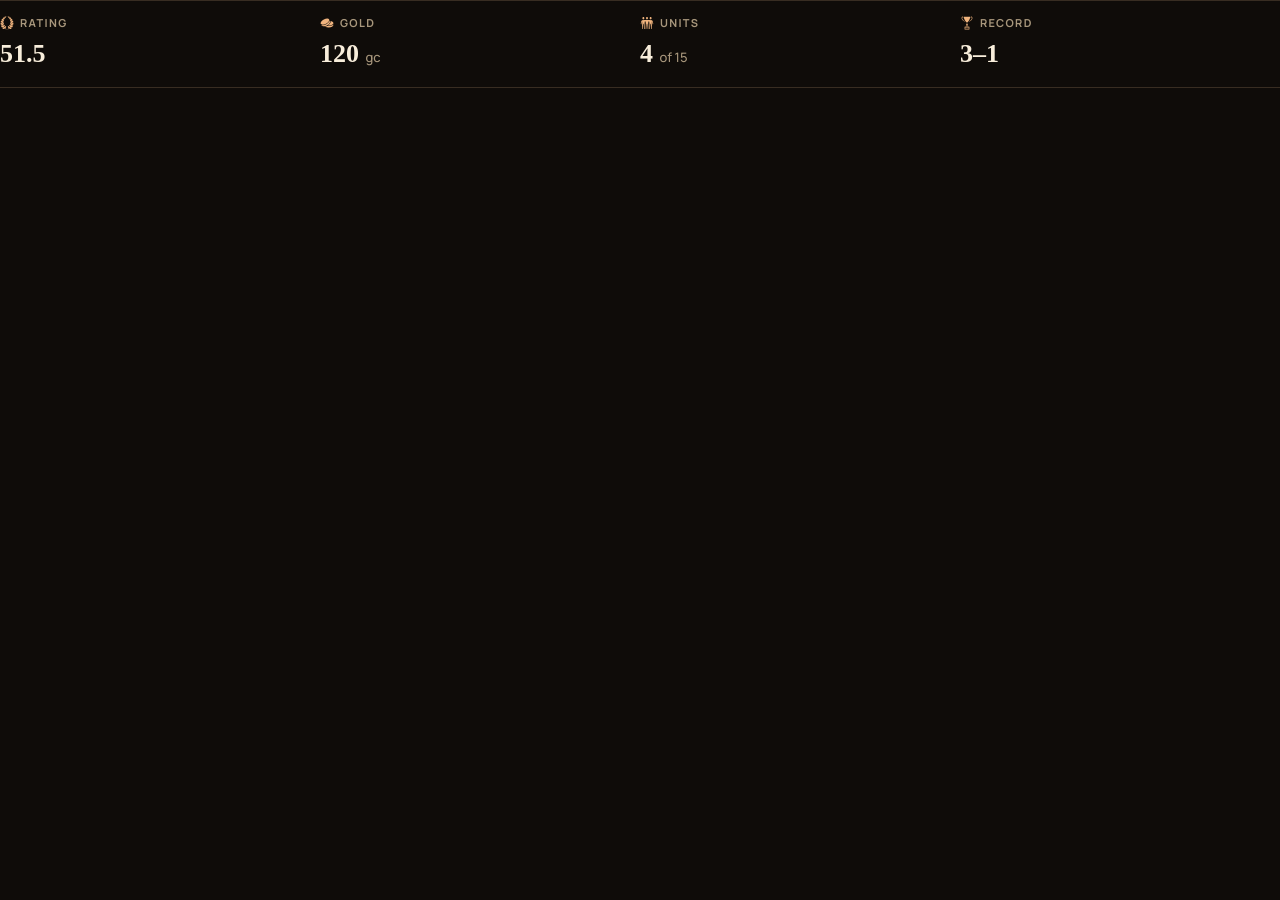
Test case: The header's windows › opens the rating unit by unit, adding up to its total
Click the button named "Rating 51.5". click: [23, 53]
box: [0, 34, 308, 72]
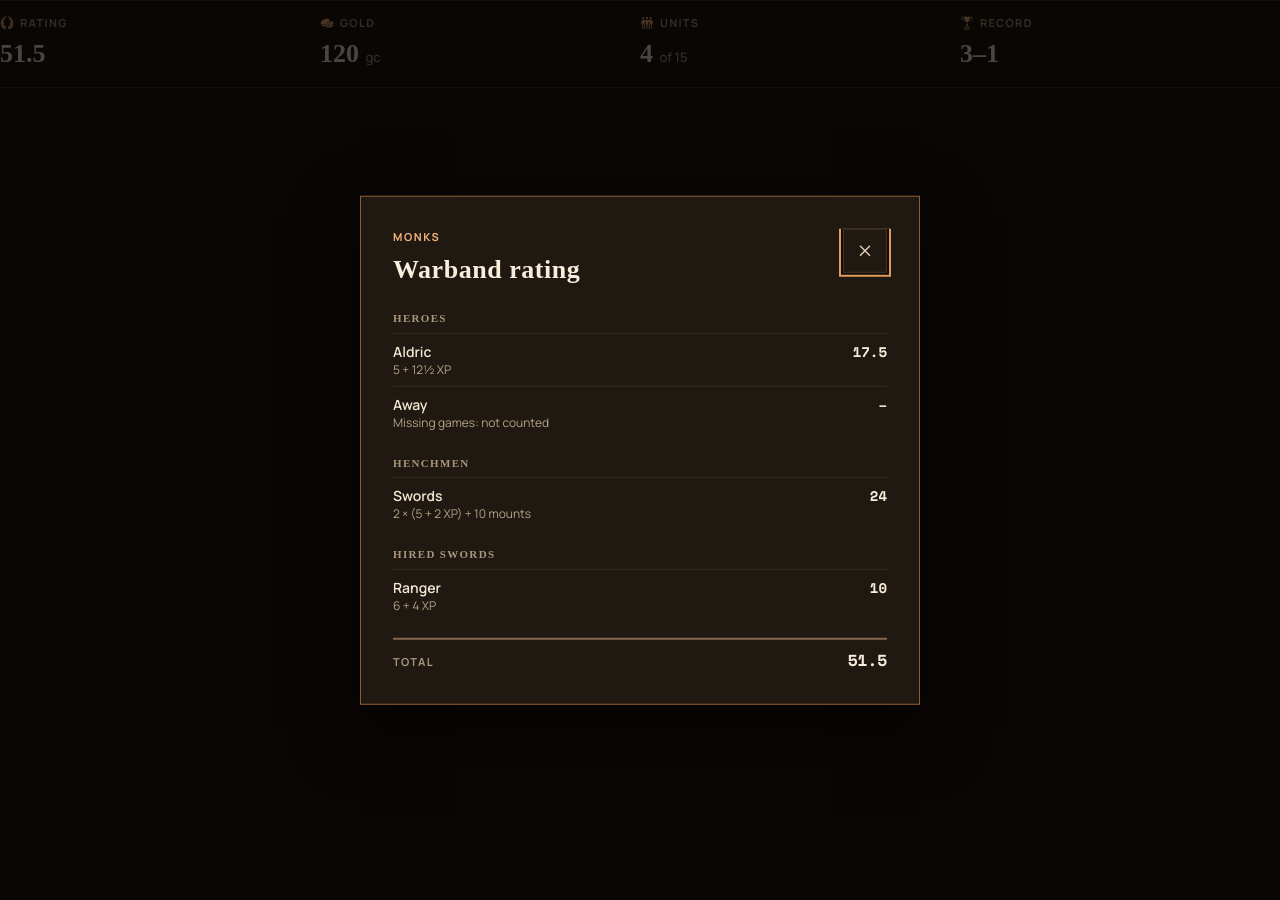
Expected: the text "5 + 12½ XP" is shown, [393, 360, 451, 377]
Expected: the text "2 × (5 + 2 XP) + 10 mounts" is shown, [393, 505, 531, 522]
Expected: the text "Missing games: not counted" is shown, [393, 413, 549, 430]
